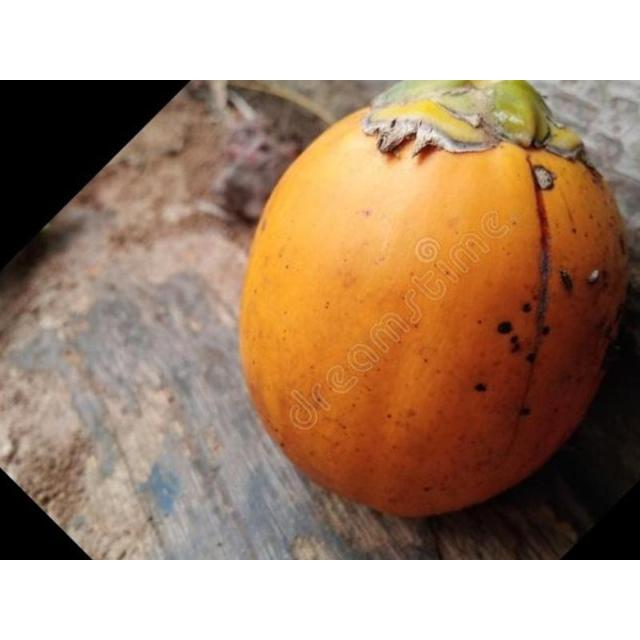good: (238, 80, 631, 522)
